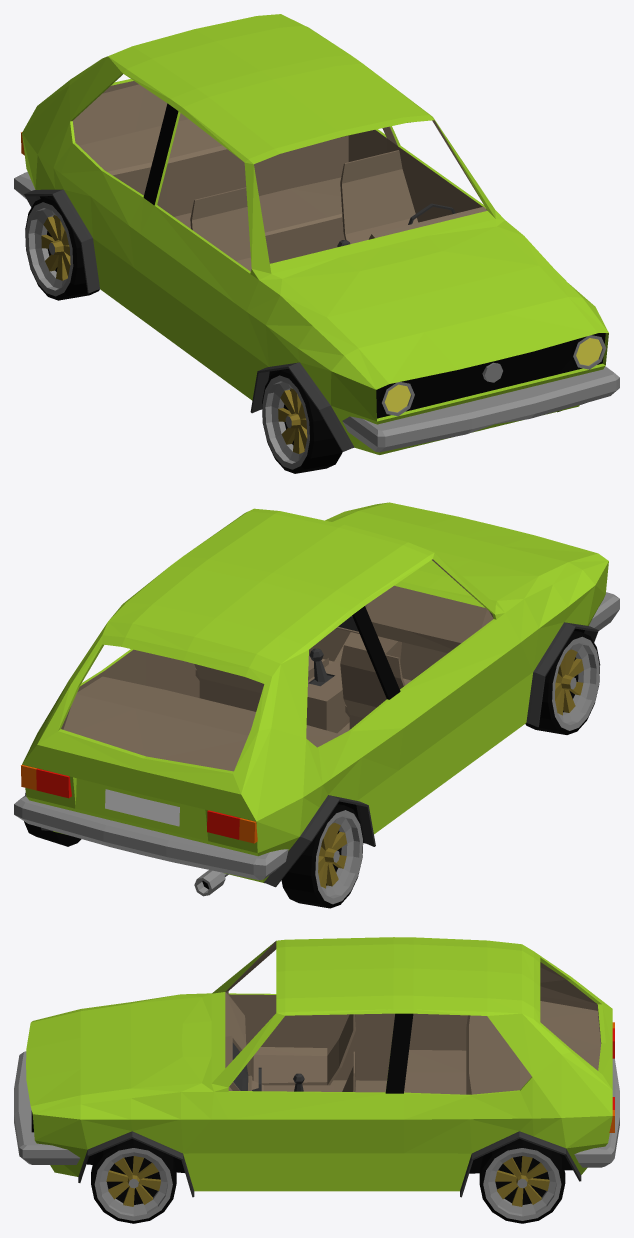
Rendered from VolkswagenGolf.fbx.
3 renders of one model, top to bottom at view 1: azimuth 30°, elevation 25°; view 2: azimuth 150°, elevation 25°; view 3: azimuth 270°, elevation 25°, orthographic. The views are drawn at different scales.
Visible parts, largest first — view 1: Body, Body.001, Body3, Body2, Rechter_voorwiel, Rechter_achterwiel, WheelFL.004, Body6, WheelFL.008, WheelFL.001, WheelFL.007; view 2: Body, Body4, Body.001, Body2, Body5, Rechter_achterwiel, Rechter_voorwiel, WheelFL.008, WheelFL.004, WheelFL.007, WheelFL.001, Body3 (+2 smaller); view 3: Body, Body.001, Linker_voorwiel, Linker_achterwiel, Body3, Body2, WheelFL.006, WheelFL.003, WheelFL.002, WheelFL.005, Body4.
Boxes of the visible parts, x1,y1,x2,y2 form: Body: (22, 14, 608, 454); Body.001: (190, 150, 418, 271); Body3: (342, 366, 619, 452); Body2: (24, 189, 354, 451); Rechter_voorwiel: (262, 375, 309, 469); Rechter_achterwiel: (25, 202, 73, 296); WheelFL.004: (262, 369, 342, 473); Body6: (378, 334, 606, 416); WheelFL.008: (25, 196, 99, 300); WheelFL.001: (278, 388, 307, 453); WheelFL.007: (41, 215, 70, 280); Body: (22, 502, 608, 882); Body4: (14, 795, 288, 880); Body.001: (194, 644, 407, 729); Body2: (41, 622, 598, 887); Body5: (21, 764, 257, 843); Rechter_achterwiel: (315, 810, 362, 904); Rechter_voorwiel: (552, 636, 599, 730); WheelFL.008: (281, 804, 363, 908); WheelFL.004: (525, 630, 600, 734); WheelFL.007: (318, 823, 347, 888); WheelFL.001: (555, 649, 583, 715); Body3: (589, 592, 619, 630); Body: (26, 937, 612, 1191); Body.001: (250, 1014, 355, 1091); Linker_voorwiel: (94, 1148, 172, 1220); Linker_achterwiel: (483, 1148, 561, 1220); Body3: (14, 1051, 80, 1164); Body2: (78, 1131, 581, 1197); WheelFL.006: (479, 1138, 565, 1223); WheelFL.003: (91, 1138, 176, 1223); WheelFL.002: (106, 1156, 160, 1206); WheelFL.005: (495, 1156, 549, 1206); Body4: (574, 1058, 619, 1167).
Bounding box in the file's own units: 189 × 147 × 406.
